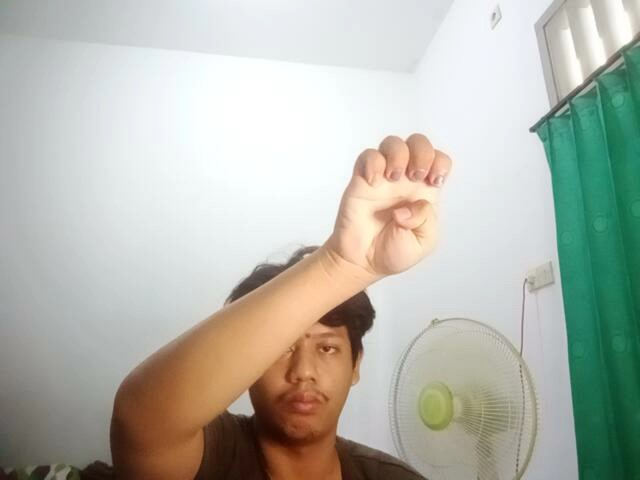E: (327, 120, 459, 278)
